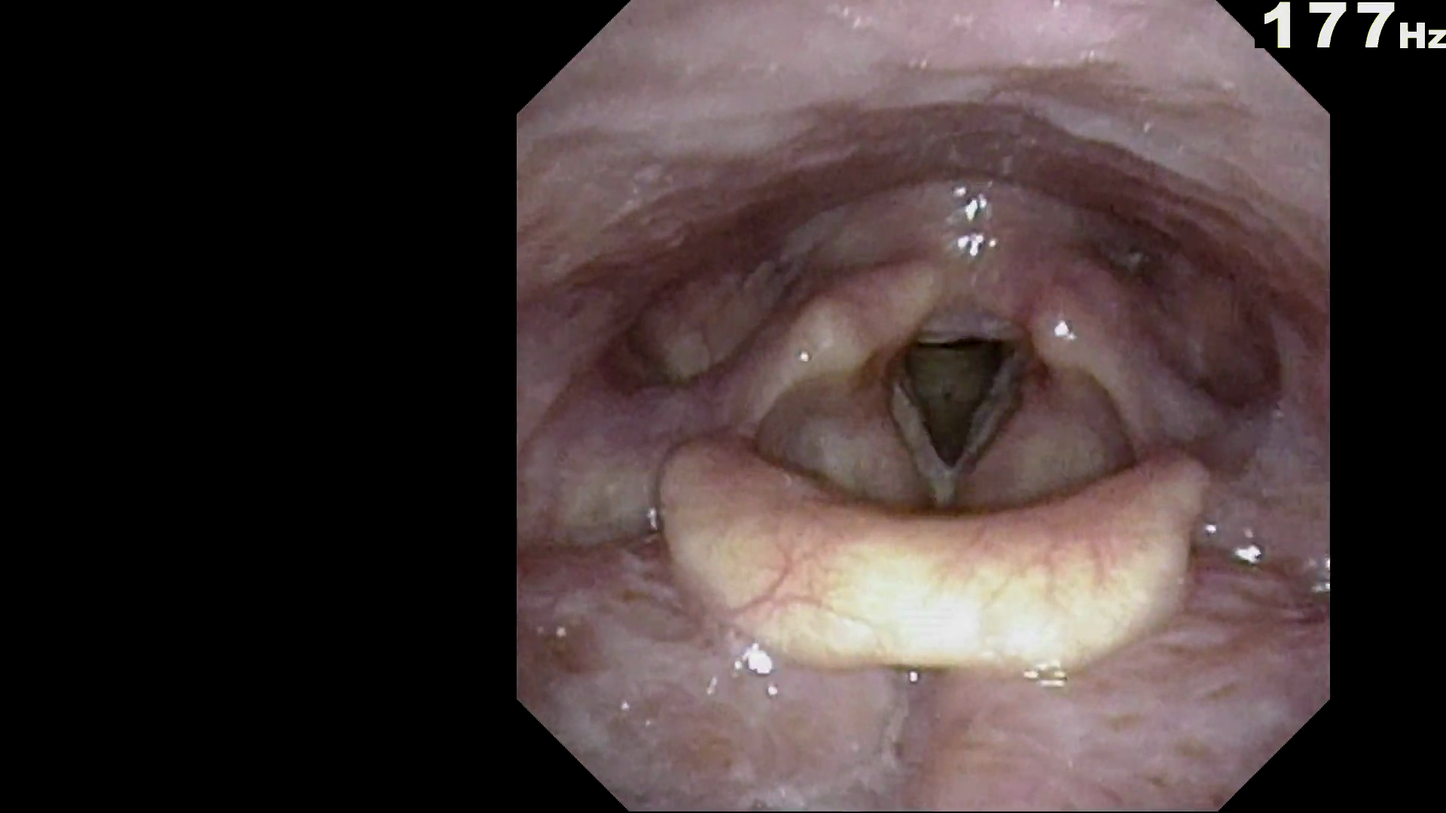epiglottis: (674, 440, 1194, 678)
trachea: (872, 304, 1033, 487)
